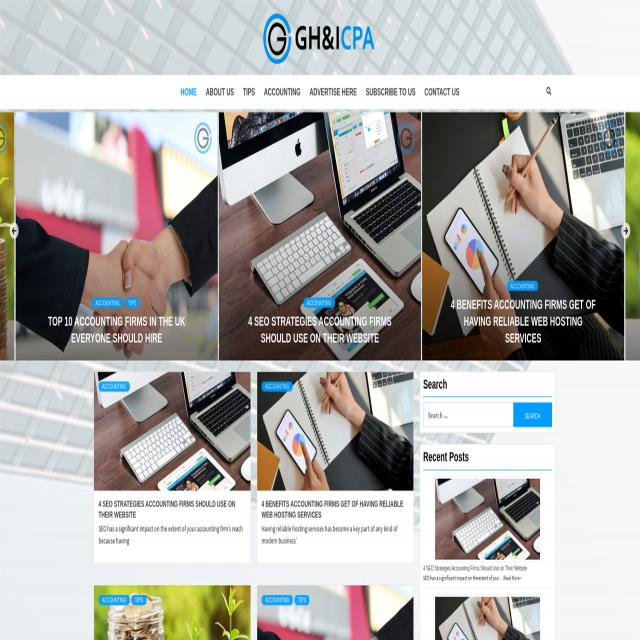button: (422, 112, 624, 361), (16, 112, 218, 361), (219, 112, 421, 361), (94, 372, 250, 491), (257, 372, 413, 491), (434, 477, 542, 562), (93, 584, 250, 640), (257, 585, 414, 640), (259, 5, 381, 70), (435, 596, 540, 640), (625, 112, 640, 361), (362, 75, 421, 109), (305, 75, 361, 109), (259, 75, 305, 109), (420, 75, 464, 109), (202, 75, 238, 109), (514, 402, 552, 428), (176, 75, 202, 109), (238, 75, 260, 109), (542, 77, 558, 103), (98, 381, 130, 391), (98, 595, 130, 605), (507, 281, 538, 291), (92, 298, 123, 308), (304, 298, 334, 308), (262, 381, 292, 391), (262, 595, 292, 605), (124, 298, 140, 308), (131, 595, 147, 605), (294, 595, 310, 605), (622, 222, 630, 240)
field: (423, 402, 513, 428)
